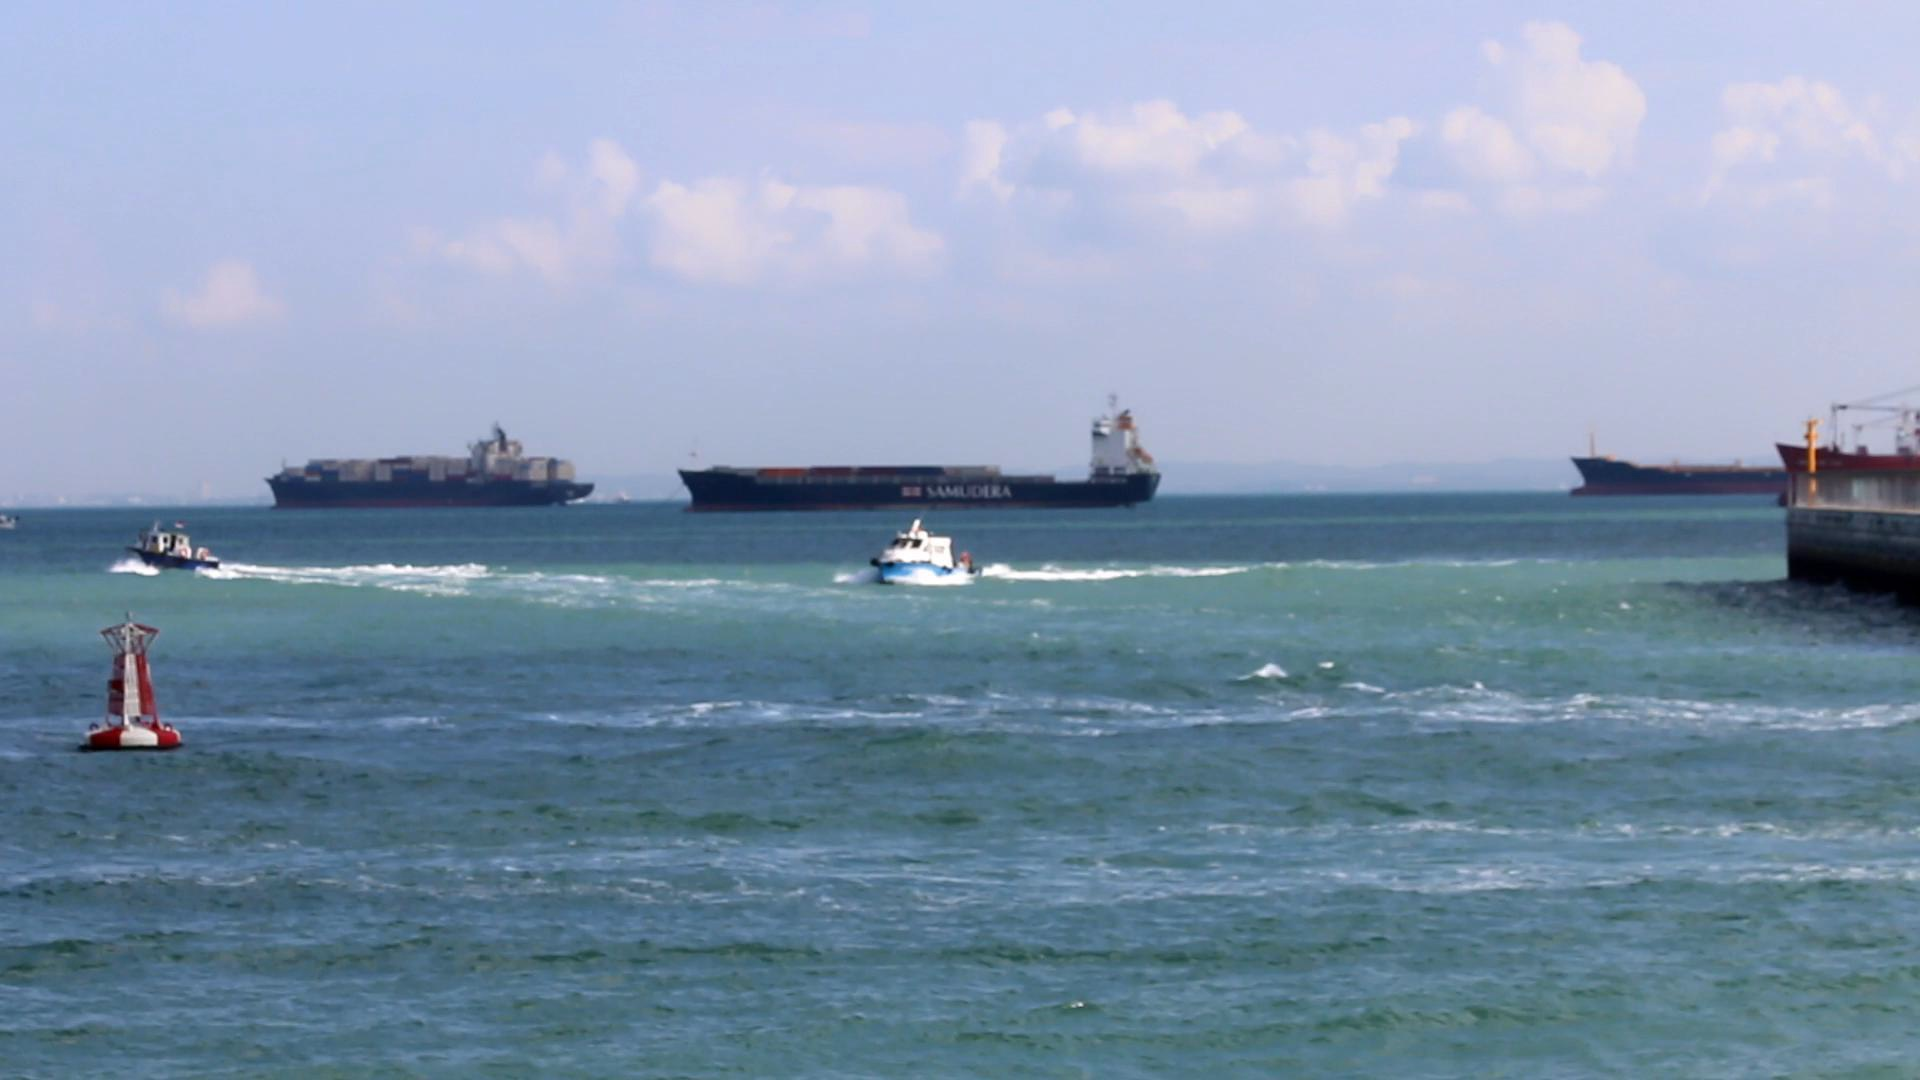Container Ship: (676, 390, 1163, 512), (1778, 377, 1919, 600), (264, 422, 599, 516), (1569, 430, 1787, 501)
